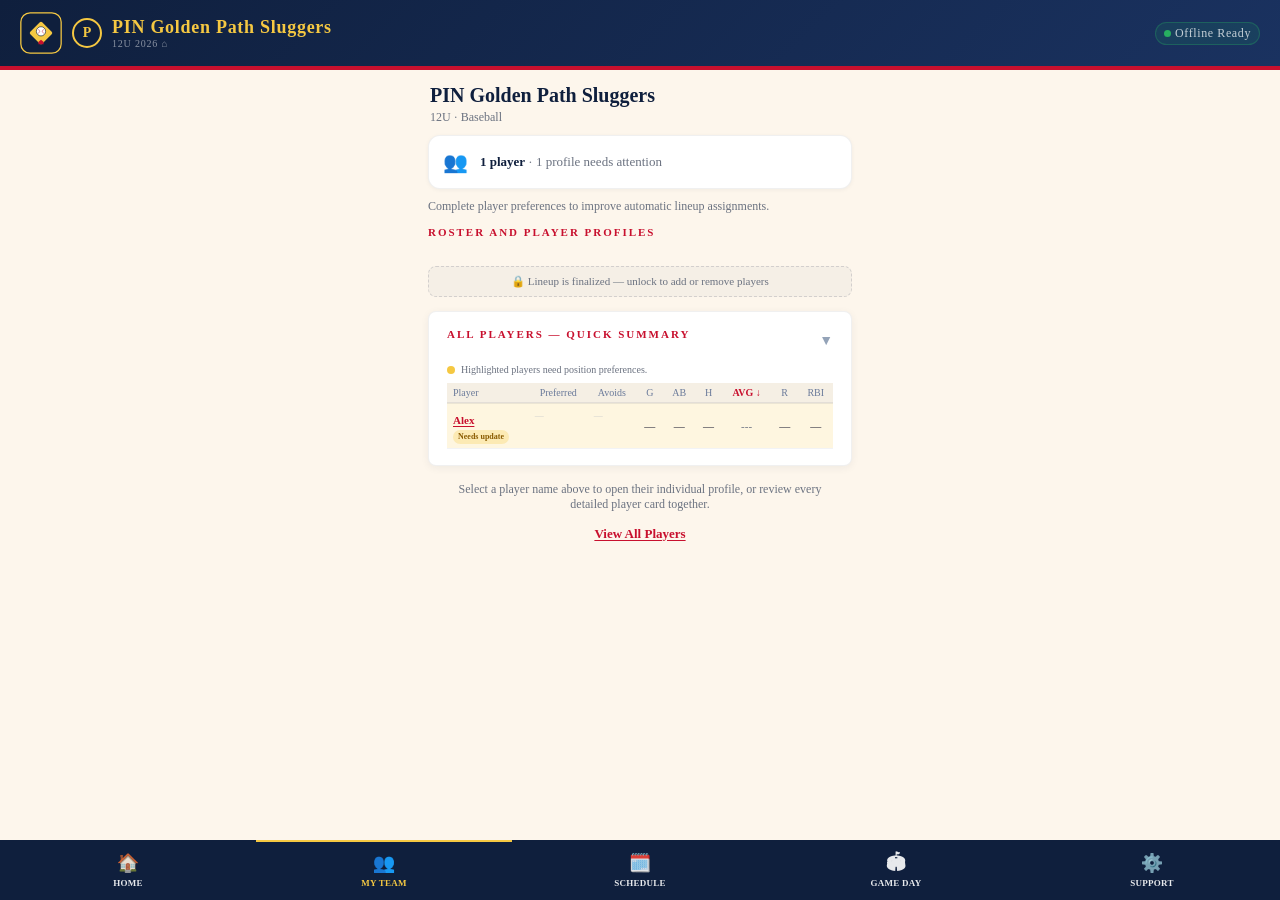
Scenario: App coach-PIN unlock golden path (#943) › closing via the backdrop cancels without submitting or clearing the PIN state
Click the button "🏟 Game Day" at (896, 870), box x1=768 y1=840 x2=1024 y2=899
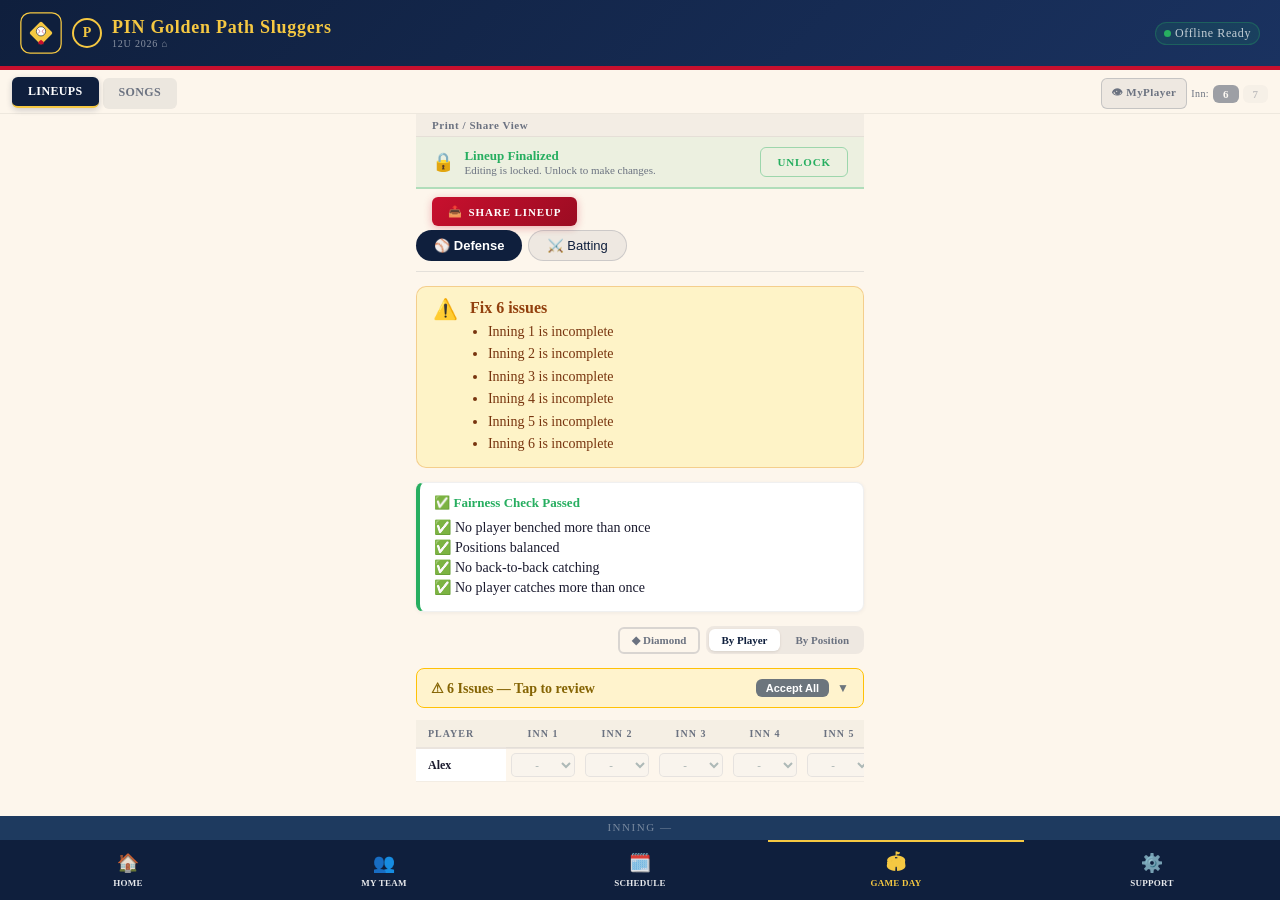
Check: the text "Lineup Finalized" is shown, box x1=464 y1=148 x2=559 y2=163
Click the button "Unlock" at (804, 162), box x1=760 y1=147 x2=848 y2=177
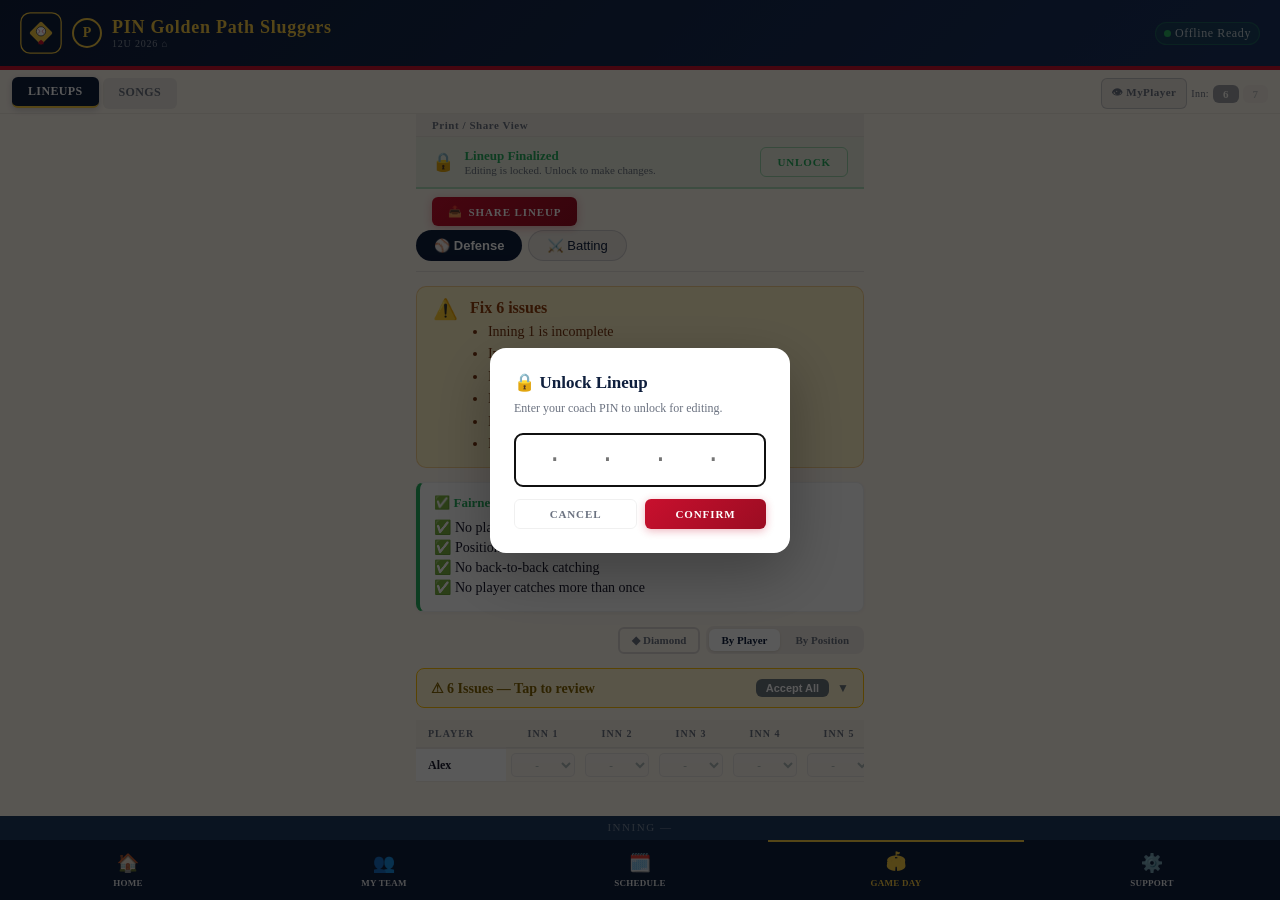
Check: the text "🔒 Unlock Lineup" is shown, box x1=514 y1=372 x2=648 y2=392
Type "9999" into the password field with placeholder "· · · ·" at (640, 460), box x1=514 y1=432 x2=766 y2=486
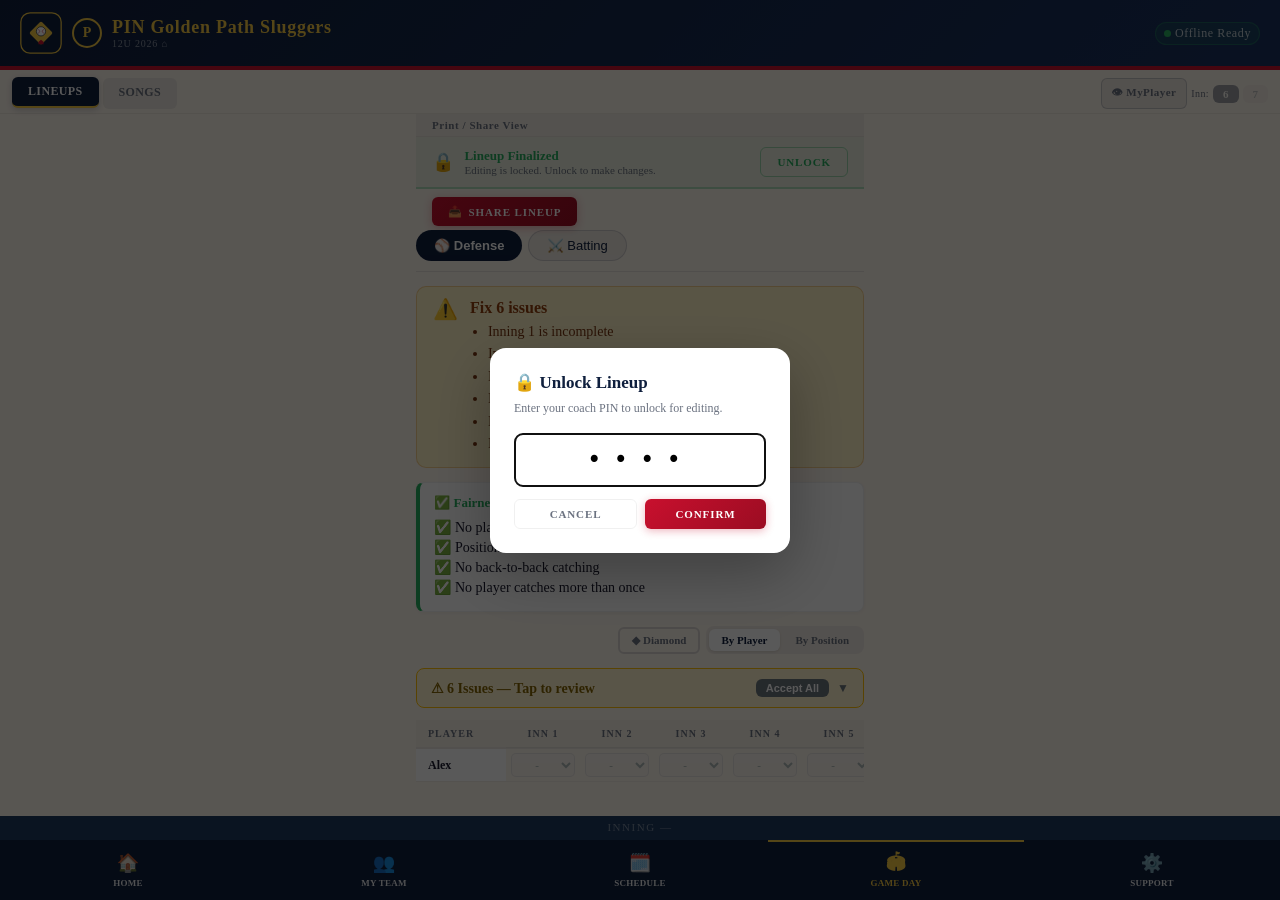
Click the button "Cancel" at (576, 514), box x1=514 y1=498 x2=637 y2=528
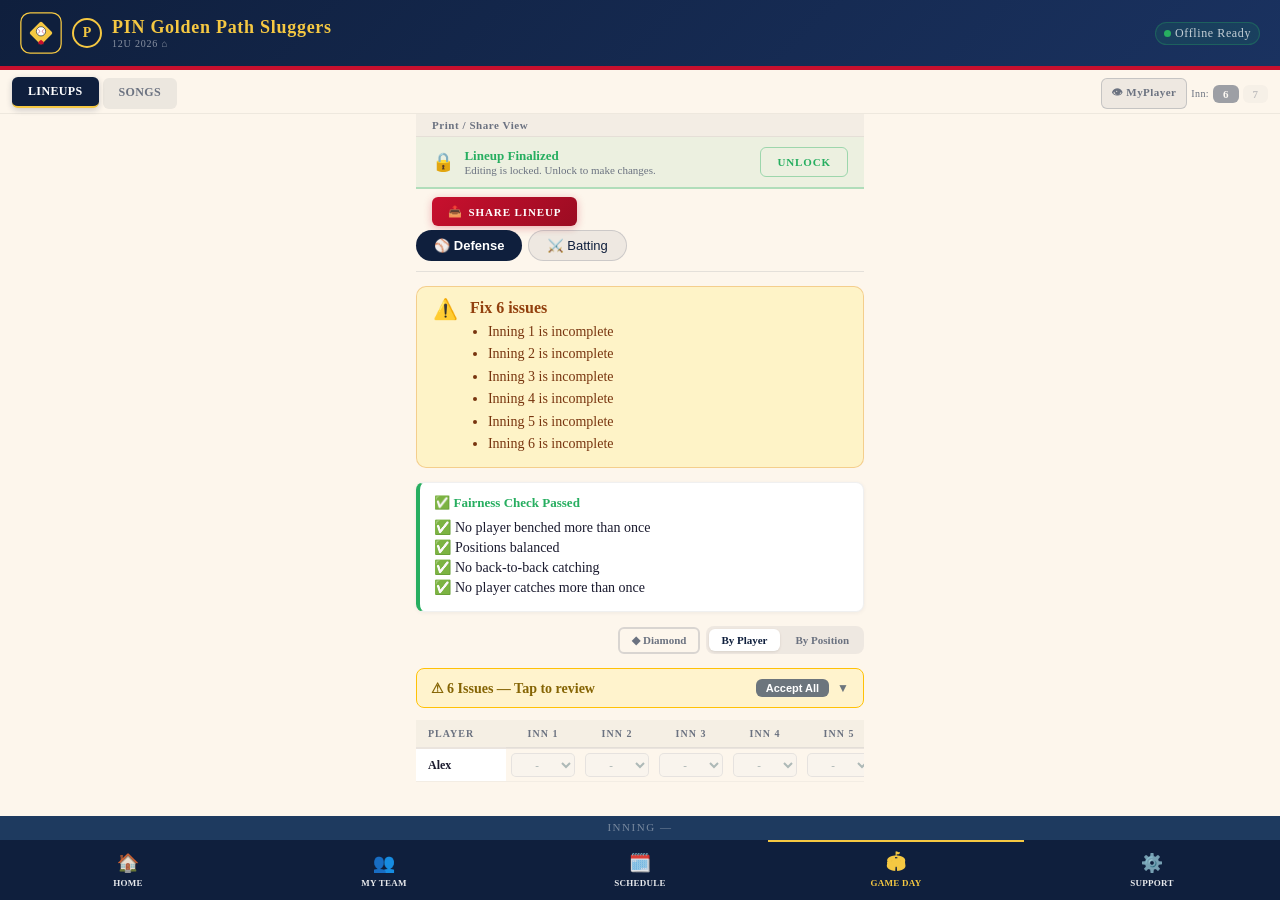
Check: the text "Lineup Finalized" is shown, box x1=464 y1=148 x2=559 y2=163
Check: the text "Unlock Lineup" is gone
